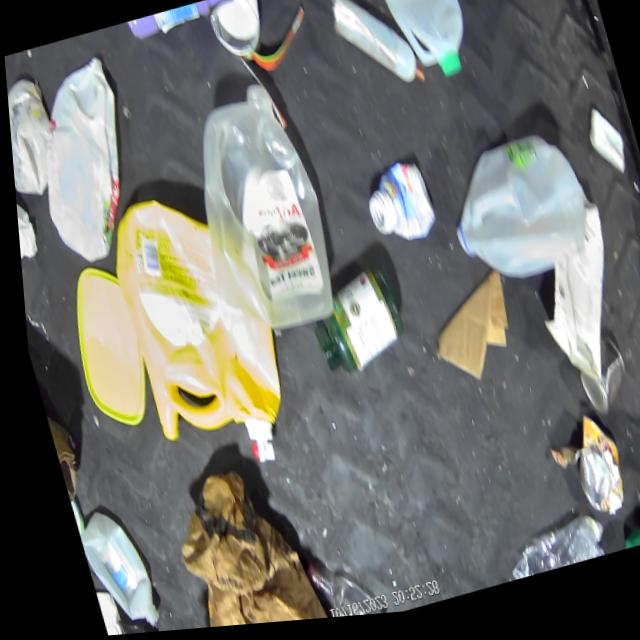can: (554, 417, 626, 532), (564, 341, 629, 431), (202, 0, 274, 76), (56, 476, 82, 549)
milk_jug: (171, 78, 347, 351), (10, 53, 155, 273), (432, 133, 598, 302), (66, 503, 152, 638), (368, 0, 478, 99)
non_white_jug: (94, 177, 300, 493), (124, 0, 265, 45), (314, 0, 435, 18)
plastic_bottle: (490, 520, 602, 589)
